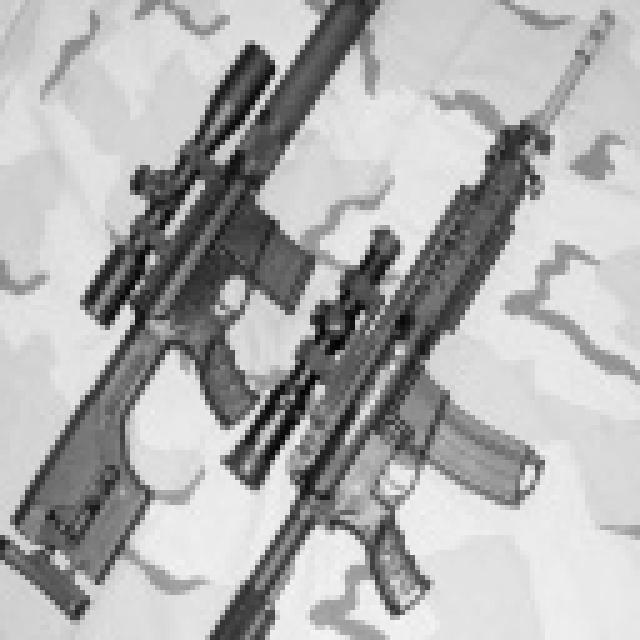Rifle: (0, 0, 405, 640)
